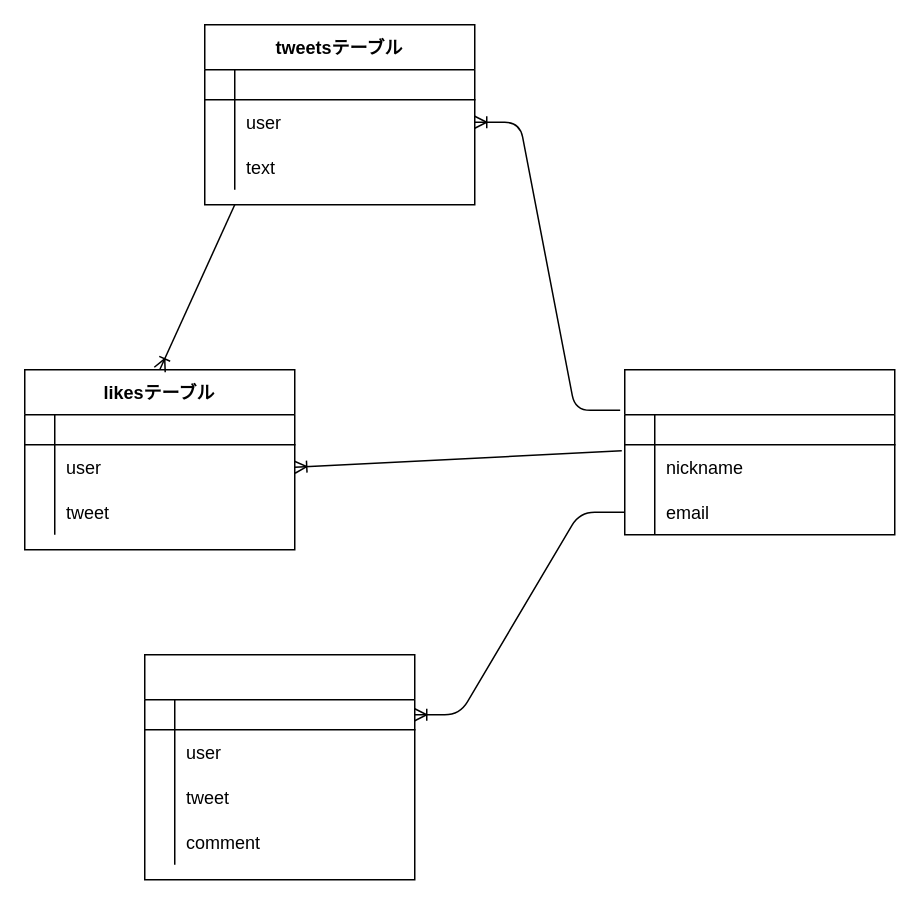
This 920x905 diagram has some shape labels left out. The shapes that lost their labels are listed below. From the top down, each one's box as (x1, y1, x2, y2) in pixels, then its label:
(623, 368, 895, 535): usersテーブル
(143, 653, 415, 880): commentsテーブル
